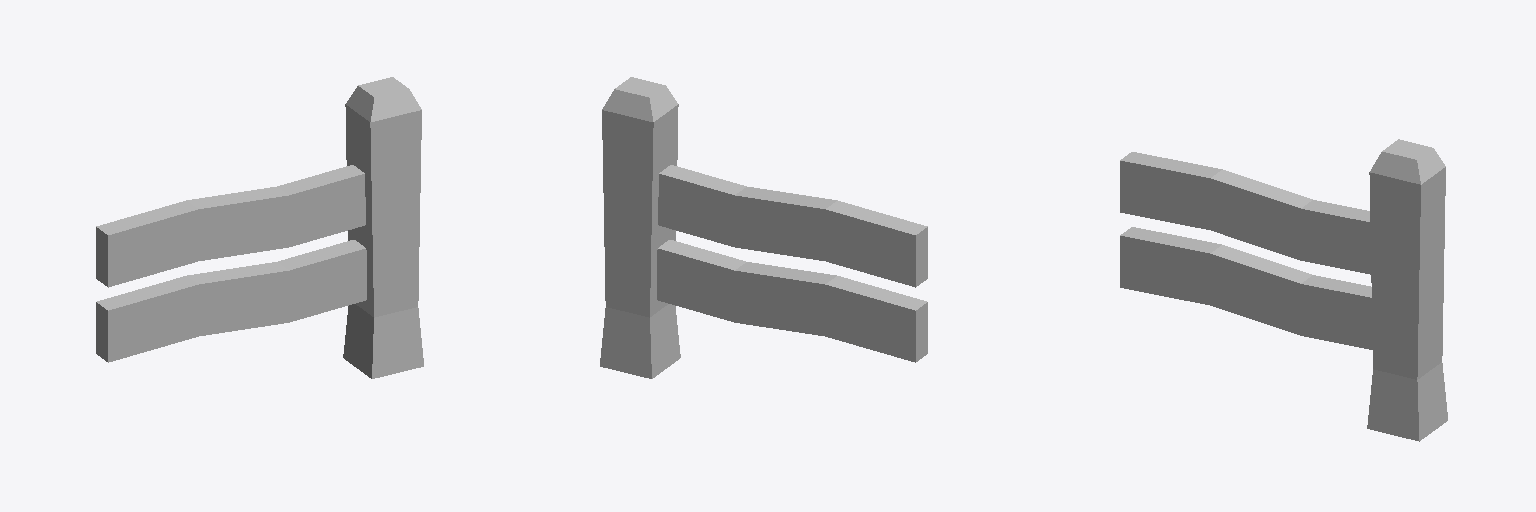
The model's file is aFence0Partial.obj.
The picture shows the model from 3 angles: view 1: azimuth 30°, elevation 25°; view 2: azimuth 150°, elevation 25°; view 3: azimuth 330°, elevation 25°; orthographic projection.
Visible parts, largest first — view 1: Cube.001_Cube.030; view 2: Cube.001_Cube.030; view 3: Cube.001_Cube.030.
Boxes of the visible parts, box(x1,y1,x2,y2) form: Cube.001_Cube.030: box(96, 77, 423, 378); Cube.001_Cube.030: box(600, 77, 927, 378); Cube.001_Cube.030: box(1120, 139, 1447, 441).
Size of the model in its own units: 0.5685 by 0.4854 by 0.0923.